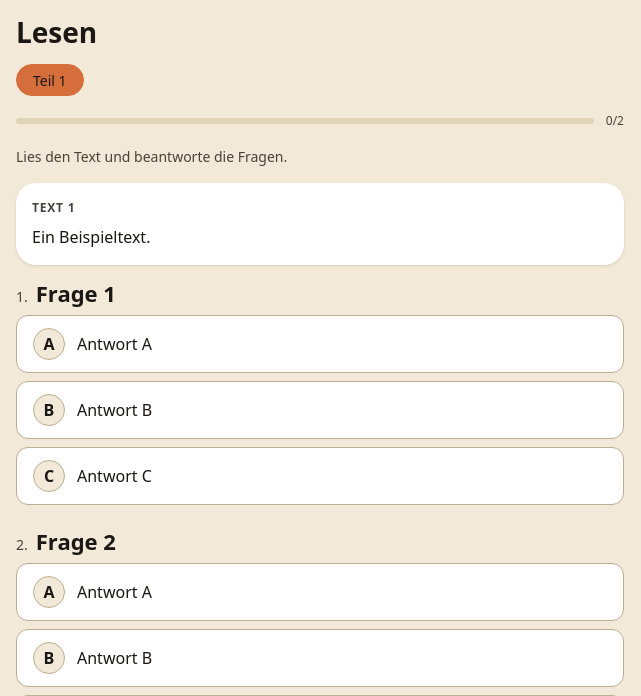
PracticeSessionScreen — first-pick locks, part views, recap › (c) answering every item flips to practice-recap with the score line
The image size is (641, 696).
Click the button with test id "practice-option-i1-b": (49, 410) [16, 381, 624, 439]
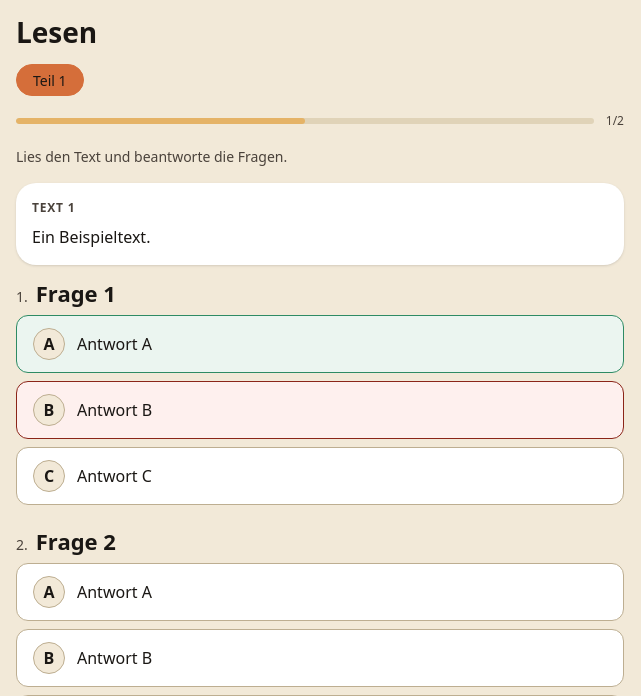
Click the button with test id "practice-option-i2-b": (49, 658) [16, 629, 624, 687]
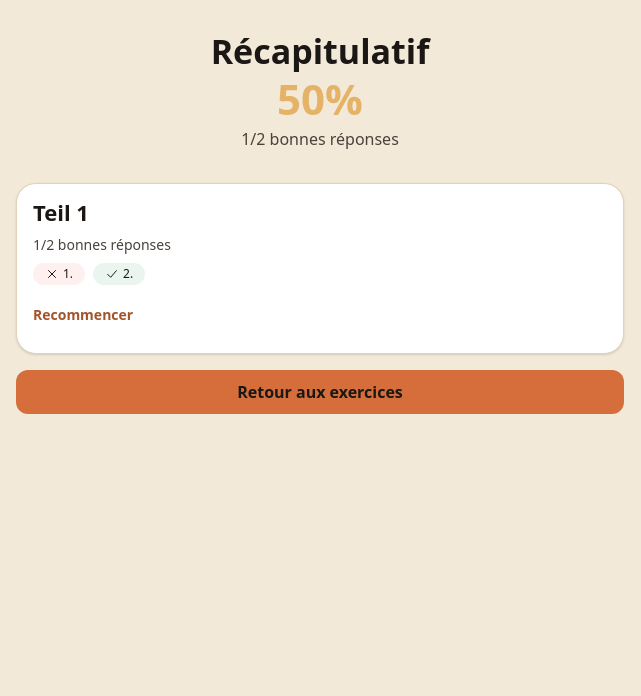
Now the element with test id "practice-recap" is shown, box [16, 16, 624, 414]
Now the text with test id "practice-recap-score" reads "1/2 bonnes réponses", box [241, 128, 399, 150]
